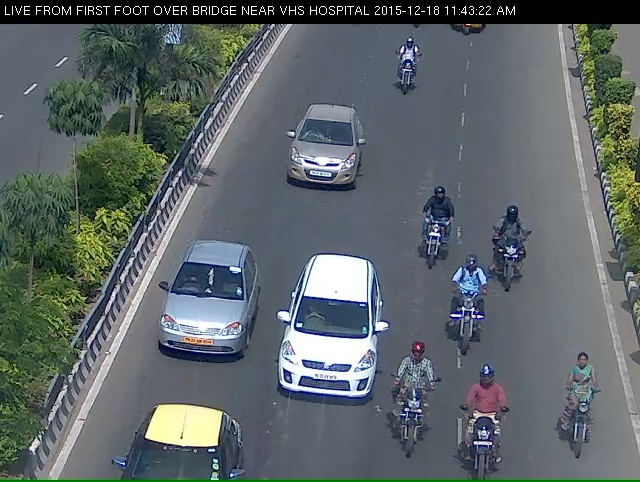Car: (267, 266, 384, 431), (151, 256, 247, 384), (282, 107, 366, 207), (447, 16, 491, 47)
Person: (393, 365, 437, 479), (488, 215, 539, 307), (447, 279, 489, 382), (566, 373, 603, 482), (385, 38, 428, 111), (466, 397, 503, 481), (414, 201, 445, 284)
